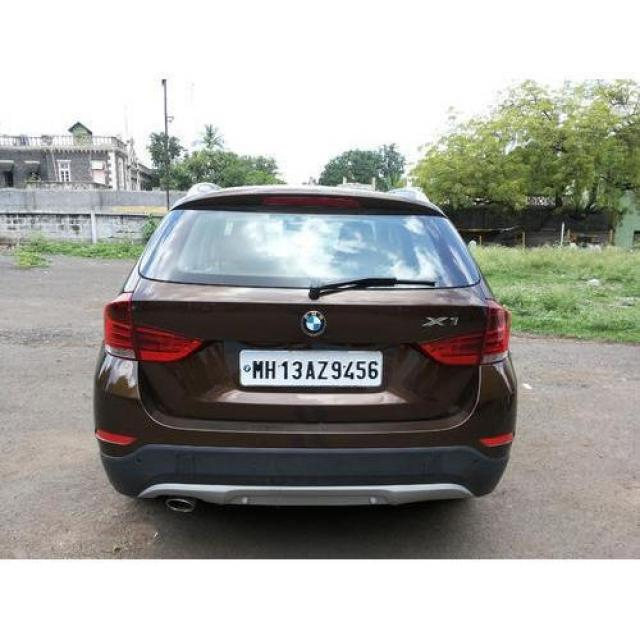Number-Plate: (242, 350, 382, 382)
